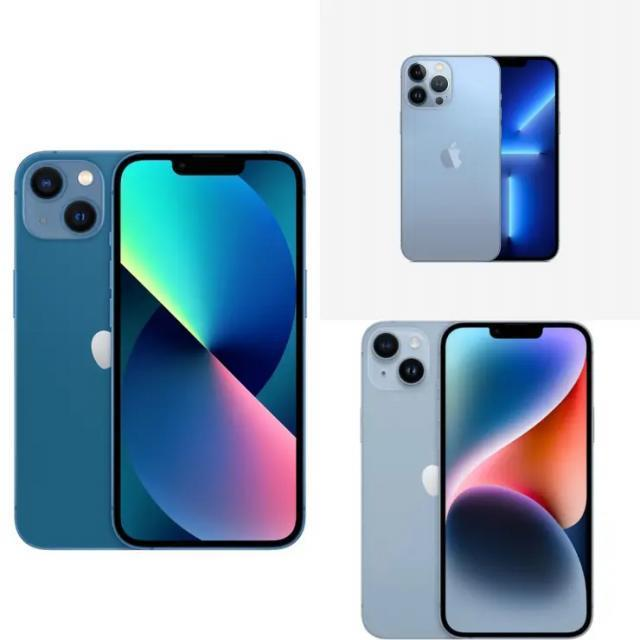phone: (400, 55, 502, 262)
